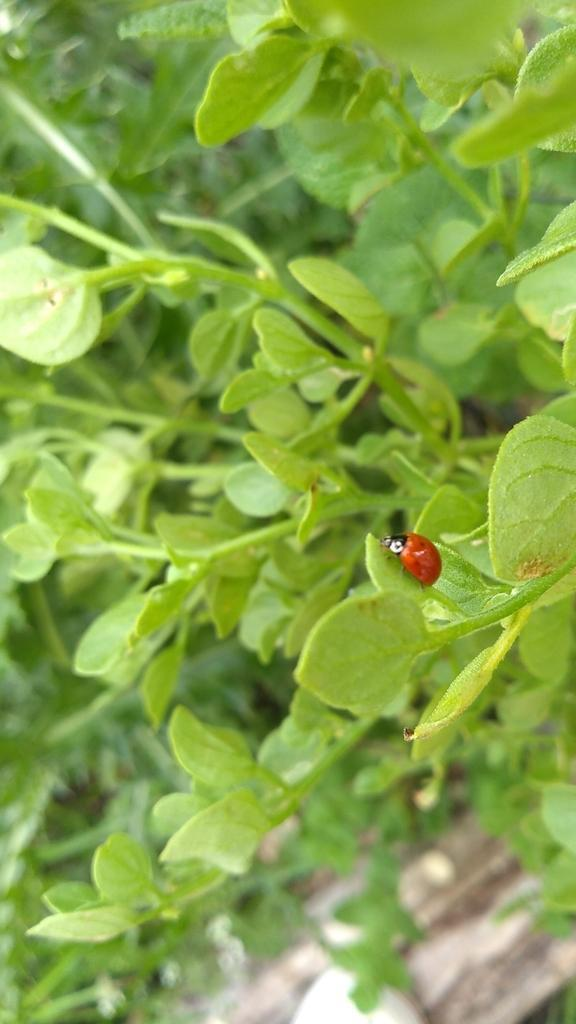ladybug: (378, 531, 445, 594)
